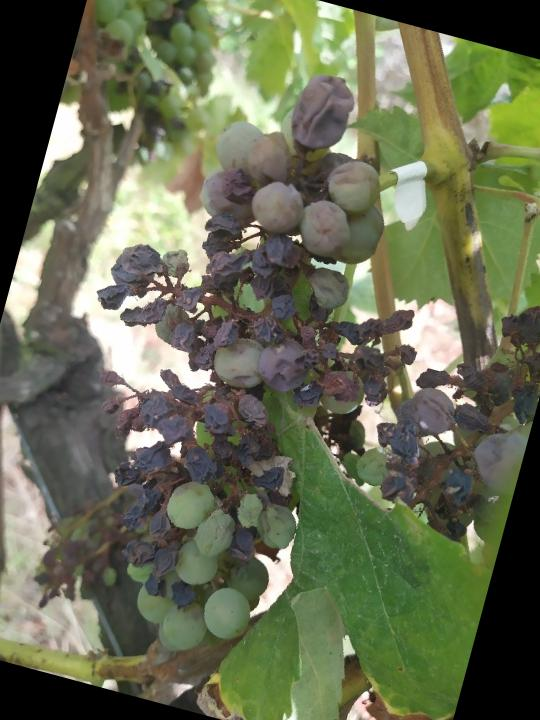grape: (7, 27, 484, 695)
